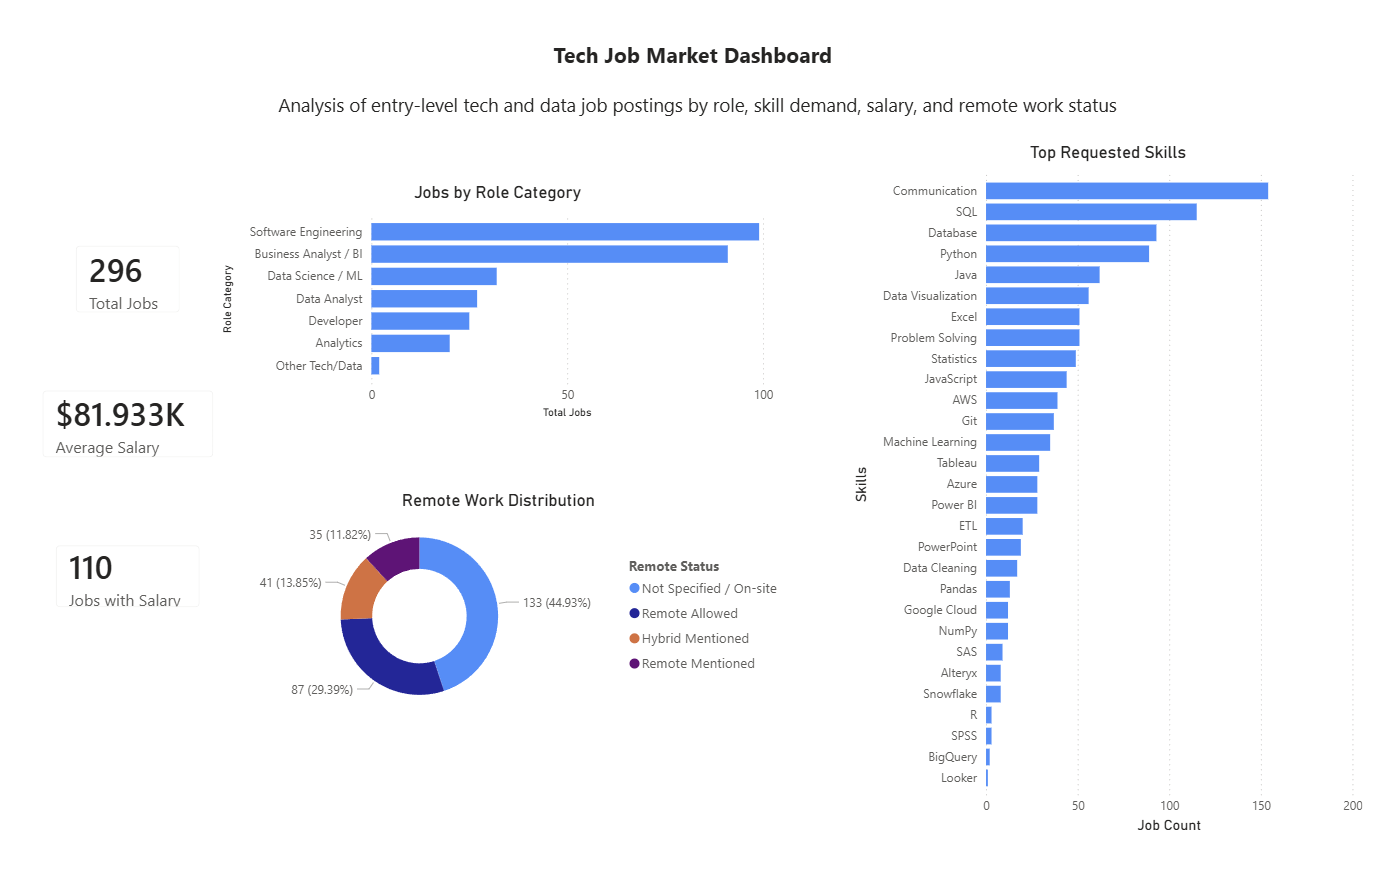

Layout of this report page (visuals, bound fields, positions):
{"tool":"powerbi","page":{"name":"Executive Summary","canvas":[1400,900],"ordinal":0},"visuals":[{"type":"cardVisual","fields":{"Data":["Sum(role_summary_dashboard.total_jobs)"]},"box":[60,230,138.3,101.7],"z":0},{"type":"cardVisual","fields":{"Data":["Sum(role_summary_dashboard.jobs_with_salary)"]},"box":[40,530,178.3,96.7],"z":1000},{"type":"cardVisual","fields":{"Data":["Avg(role_summary_dashboard.avg_salary)"]},"box":[26.7,375,205,101.7],"z":2000},{"type":"clusteredBarChart","title":"Jobs by Role Category","fields":{"Category":["role_summary_dashboard.role_category"],"Y":["Sum(role_summary_dashboard.total_jobs)"]},"box":[218.3,183.3,561.7,241.7],"z":3000},{"type":"clusteredBarChart","title":"Top Requested Skills","fields":{"Category":["skill_summary_dashboard.technical_skill"],"Y":["Sum(skill_summary_dashboard.job_count)"]},"box":[850,143.3,520,696.7],"z":4000},{"type":"donutChart","title":"Remote Work Distribution","fields":{"Category":["remote_summary_dashboard.remote_status_clean"],"Y":["Sum(remote_summary_dashboard.total_jobs)"]},"box":[206.7,491.7,586.7,233.3],"z":5000},{"type":"textbox","box":[550,36.7,300,38.3],"z":6000},{"type":"textbox","box":[178.3,88.3,1041.7,36.7],"z":7000}]}

Visuals, with their boxes in screenshot pixels (x1, y1, x2, y2), scaled from the page's 1400x900 canvas onto the 1395x891 screenshot:
cardVisual - Sum(role_summary_dashboard.total_jobs): (left=60, top=228, right=198, bottom=328)
cardVisual - Sum(role_summary_dashboard.jobs_with_salary): (left=40, top=525, right=218, bottom=620)
cardVisual - Avg(role_summary_dashboard.avg_salary): (left=27, top=371, right=231, bottom=472)
"Jobs by Role Category" clusteredBarChart: (left=218, top=181, right=777, bottom=421)
"Top Requested Skills" clusteredBarChart: (left=847, top=142, right=1365, bottom=832)
"Remote Work Distribution" donutChart: (left=206, top=487, right=791, bottom=718)
textbox: (left=548, top=36, right=847, bottom=74)
textbox: (left=178, top=87, right=1216, bottom=124)
